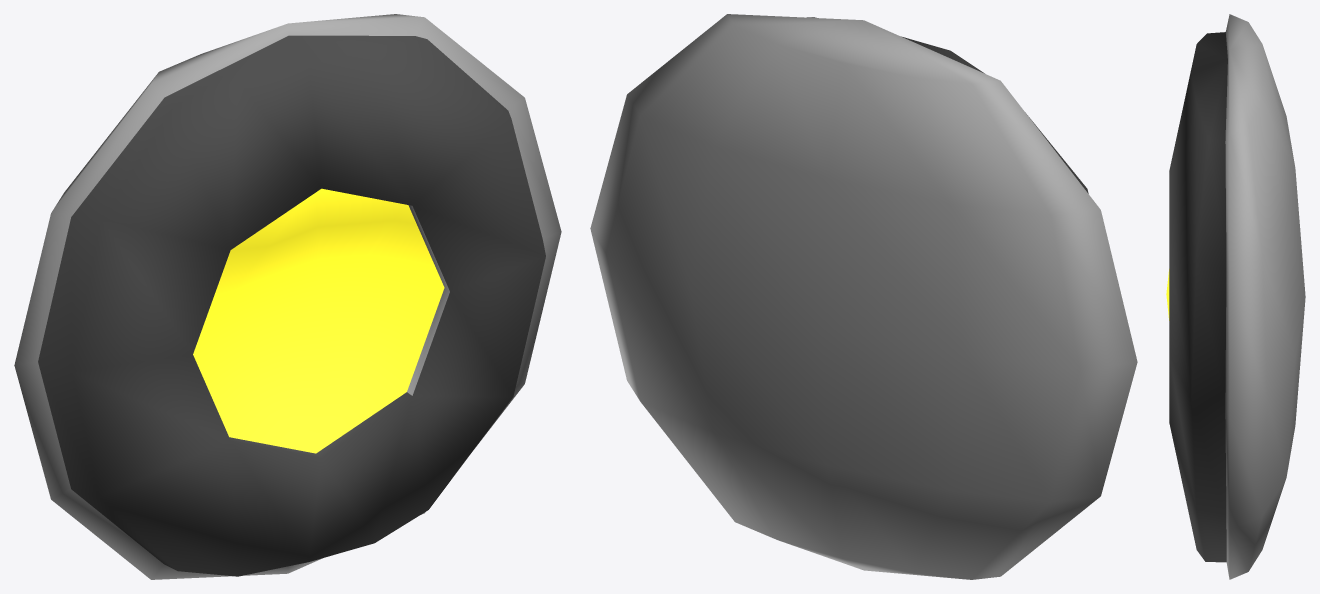
Rendered from pountoluz1.fbx.
The picture shows the model from 3 angles, left to right: view 1: azimuth 30°, elevation 25°; view 2: azimuth 150°, elevation 25°; view 3: azimuth 270°, elevation 25°; orthographic projection. The views are drawn at different scales.
Parts seen in each view (by area): view 1: Sphere; view 2: Sphere; view 3: Sphere.
Part boxes in pixels (x1,y1,x2,y2): Sphere: [14, 14, 561, 579]; Sphere: [590, 14, 1137, 579]; Sphere: [1166, 14, 1305, 579].
Bounding box in the file's own units: 310 × 298 × 76.04.
